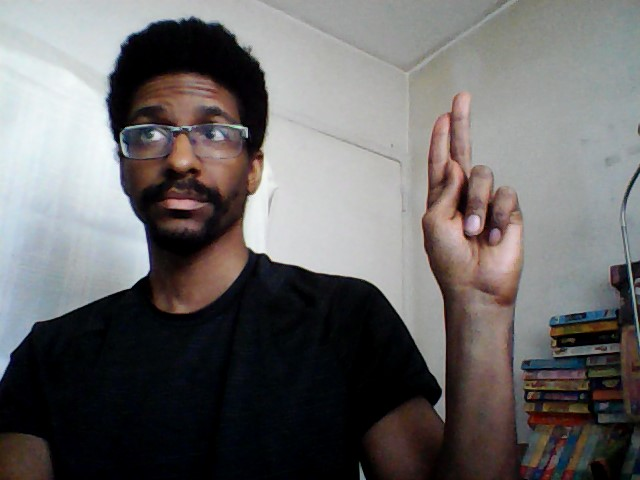k: (417, 87, 531, 313)
